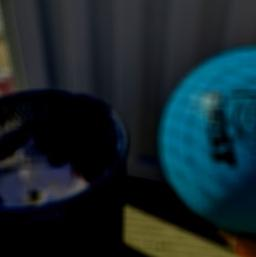algae: (155, 40, 256, 233)
